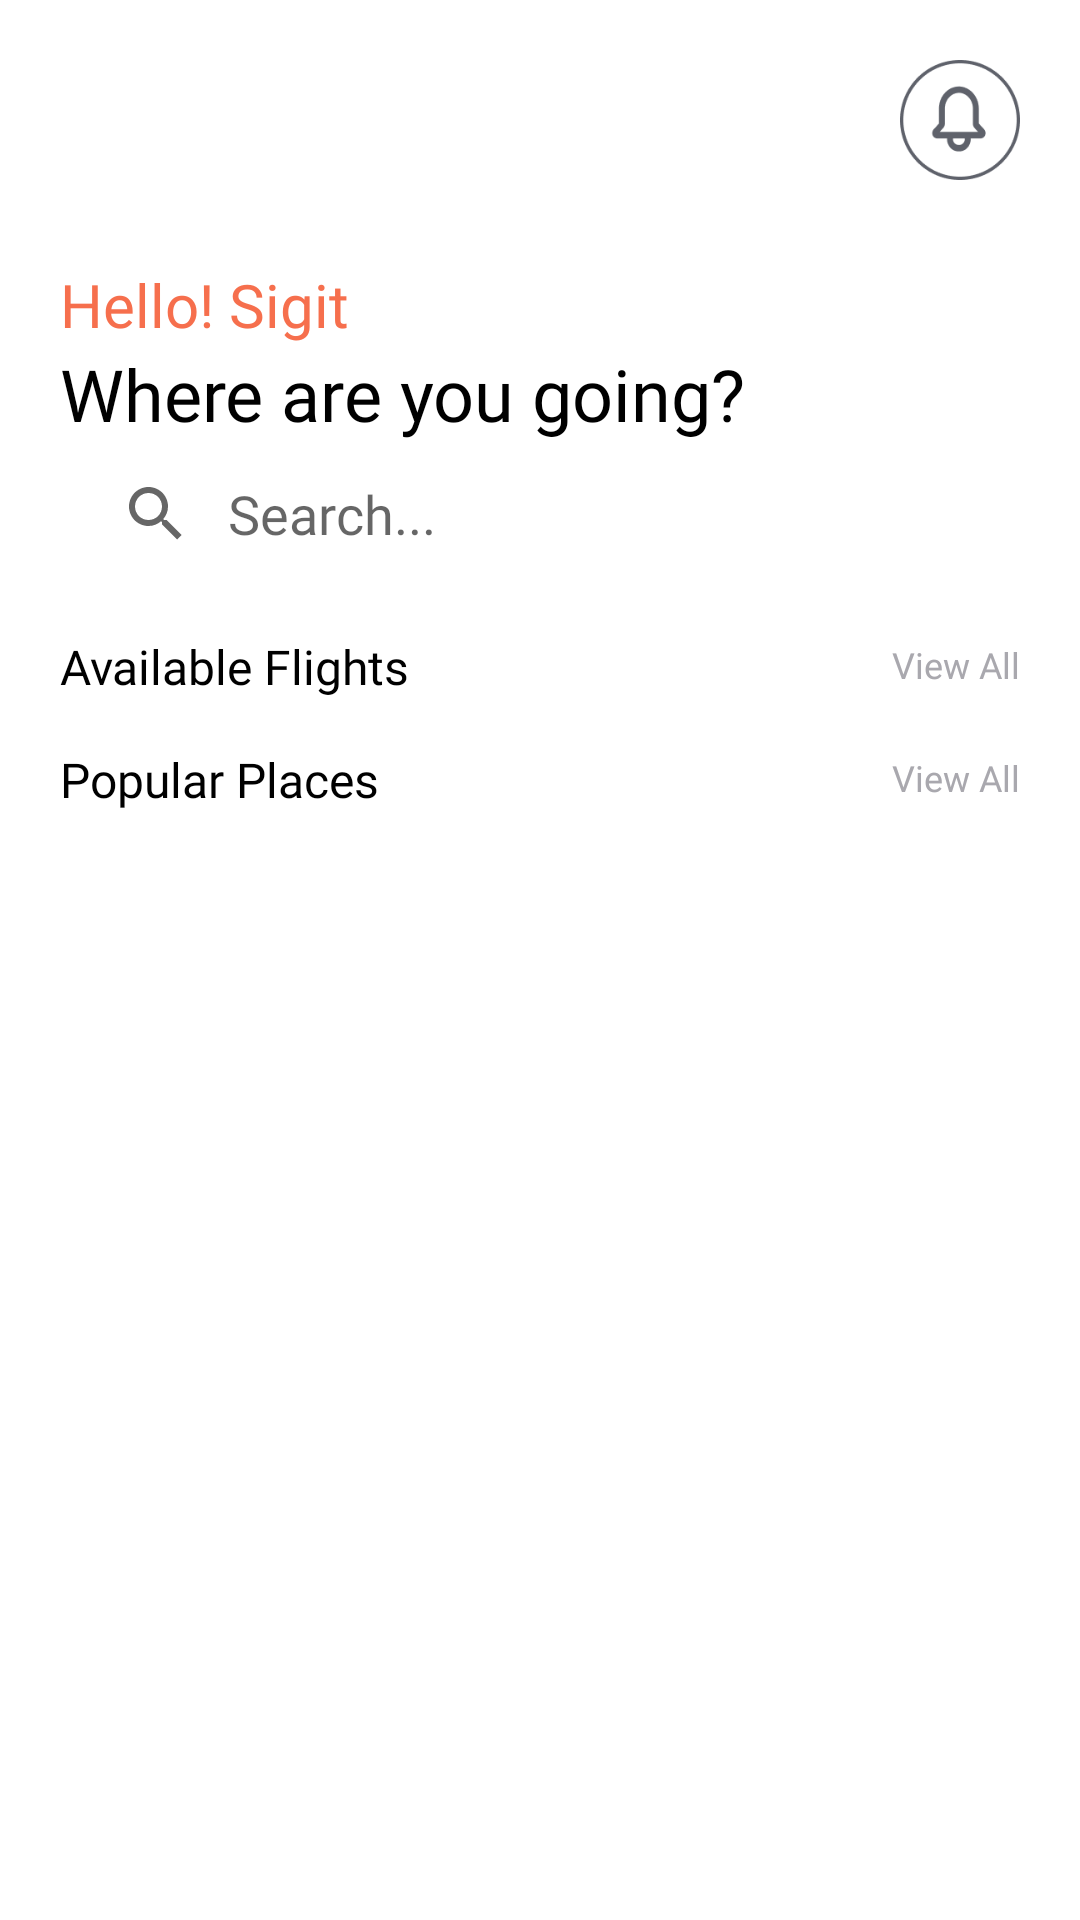

Icons on this 1080 x 1920 Android screen, each with its box as rect(x1, y1, x2, y2):
notification: rect(900, 60, 1020, 180)
